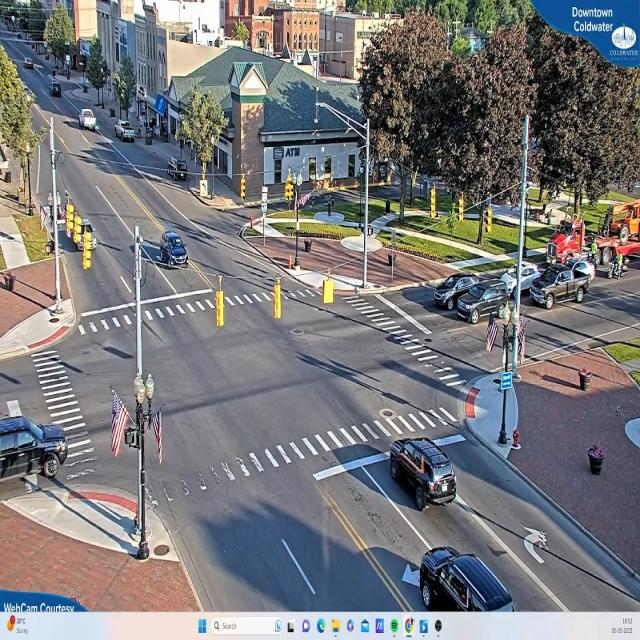car: (418, 548, 515, 614), (0, 409, 70, 481), (390, 438, 459, 509), (528, 257, 596, 308), (457, 279, 512, 322), (433, 275, 482, 308), (502, 262, 542, 296), (159, 231, 187, 272), (117, 122, 137, 144), (81, 111, 97, 131), (50, 82, 63, 97), (25, 59, 34, 68)
